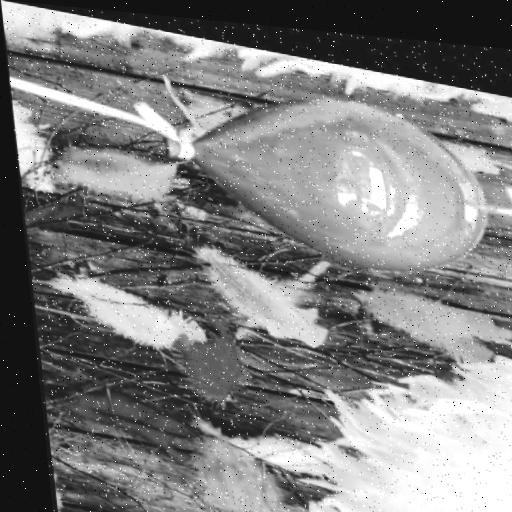balloon: (165, 57, 498, 283)
